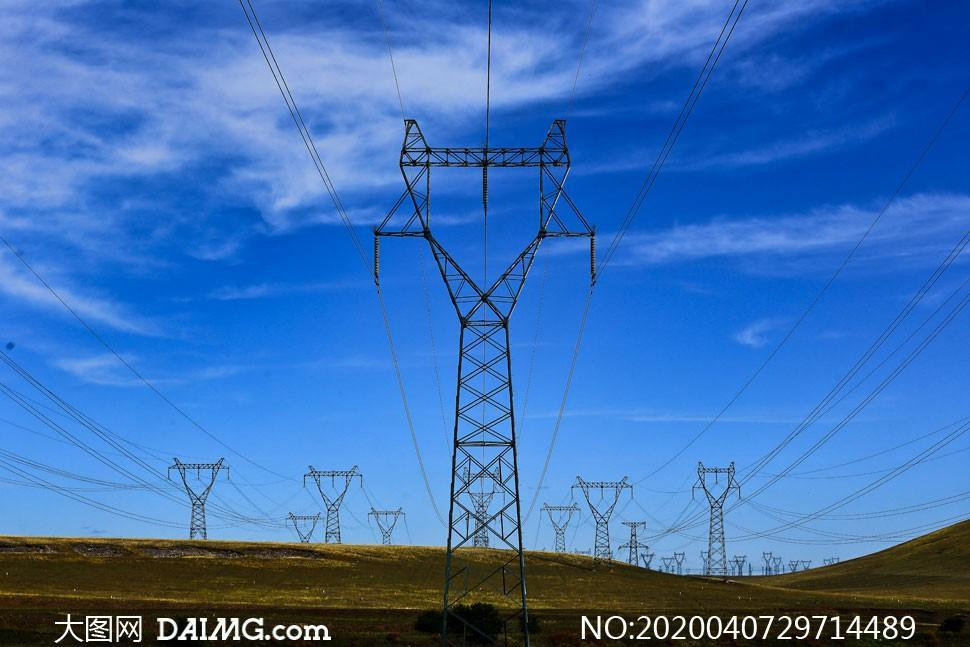power_tower: (369, 112, 600, 641), (687, 460, 748, 592), (164, 449, 243, 543), (570, 468, 630, 575), (312, 453, 377, 546), (535, 493, 584, 569), (283, 509, 336, 559), (366, 498, 416, 549), (617, 514, 654, 574)
